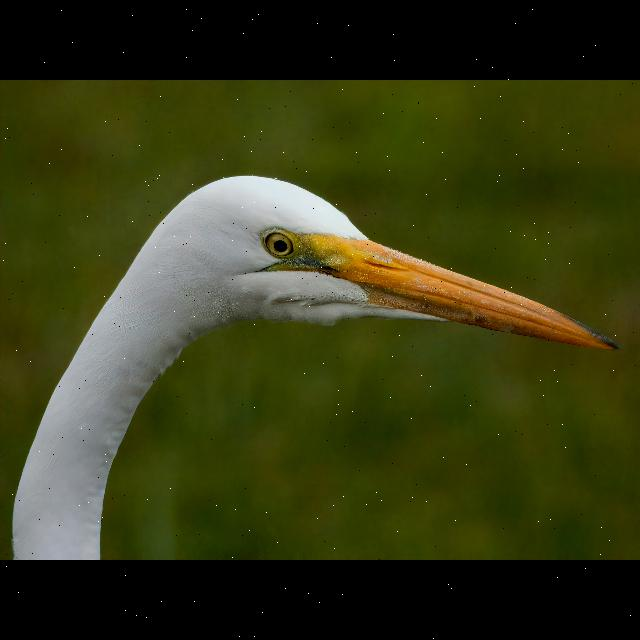egret: (0, 172, 619, 560)
